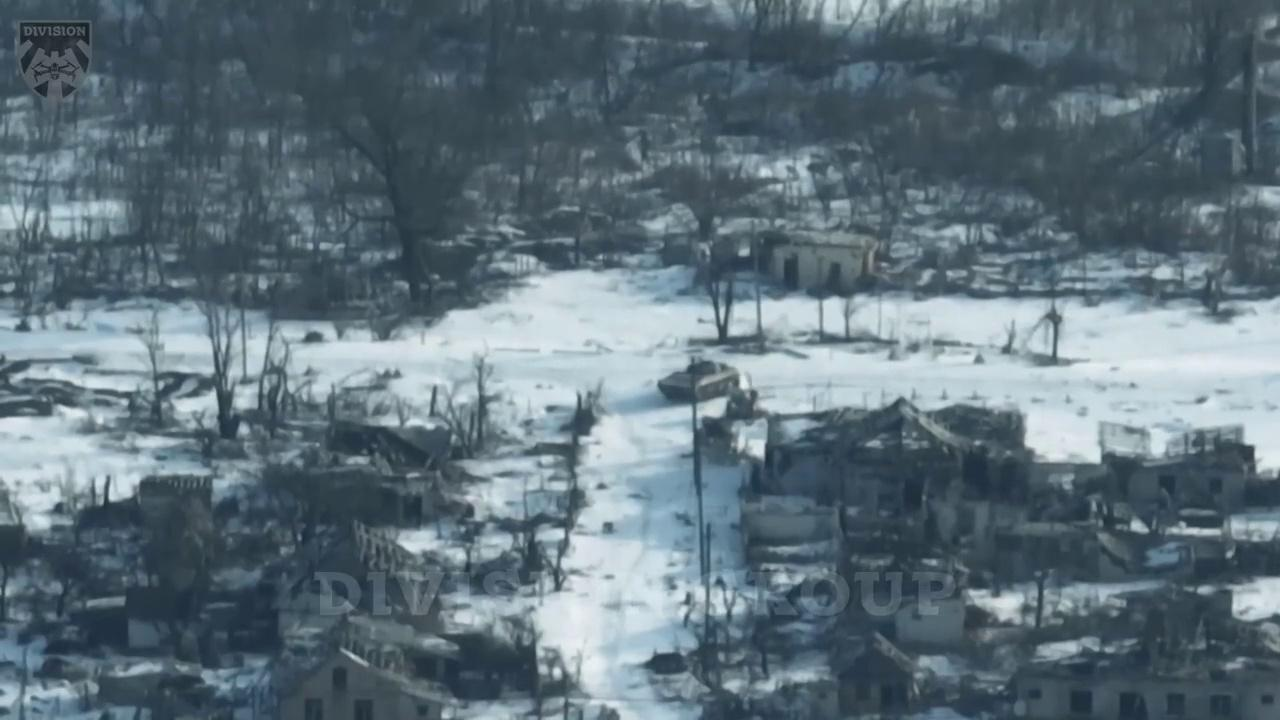vehicle: (655, 360, 742, 406)
